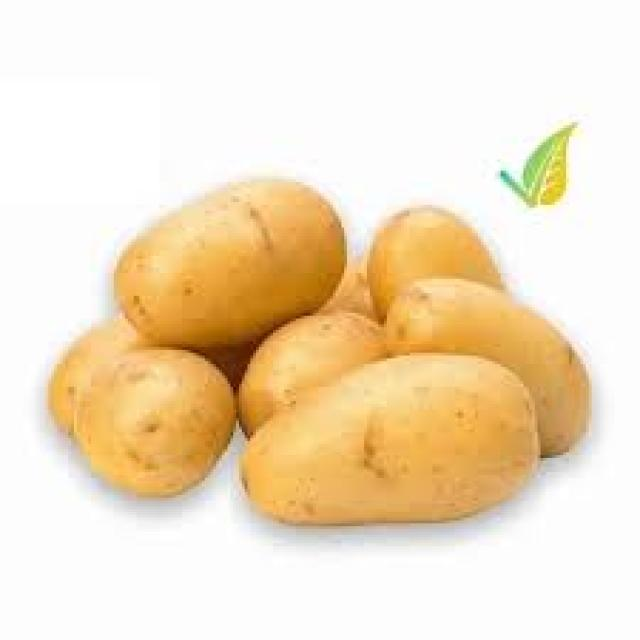Potato: (237, 358, 563, 550), (107, 170, 395, 344)
